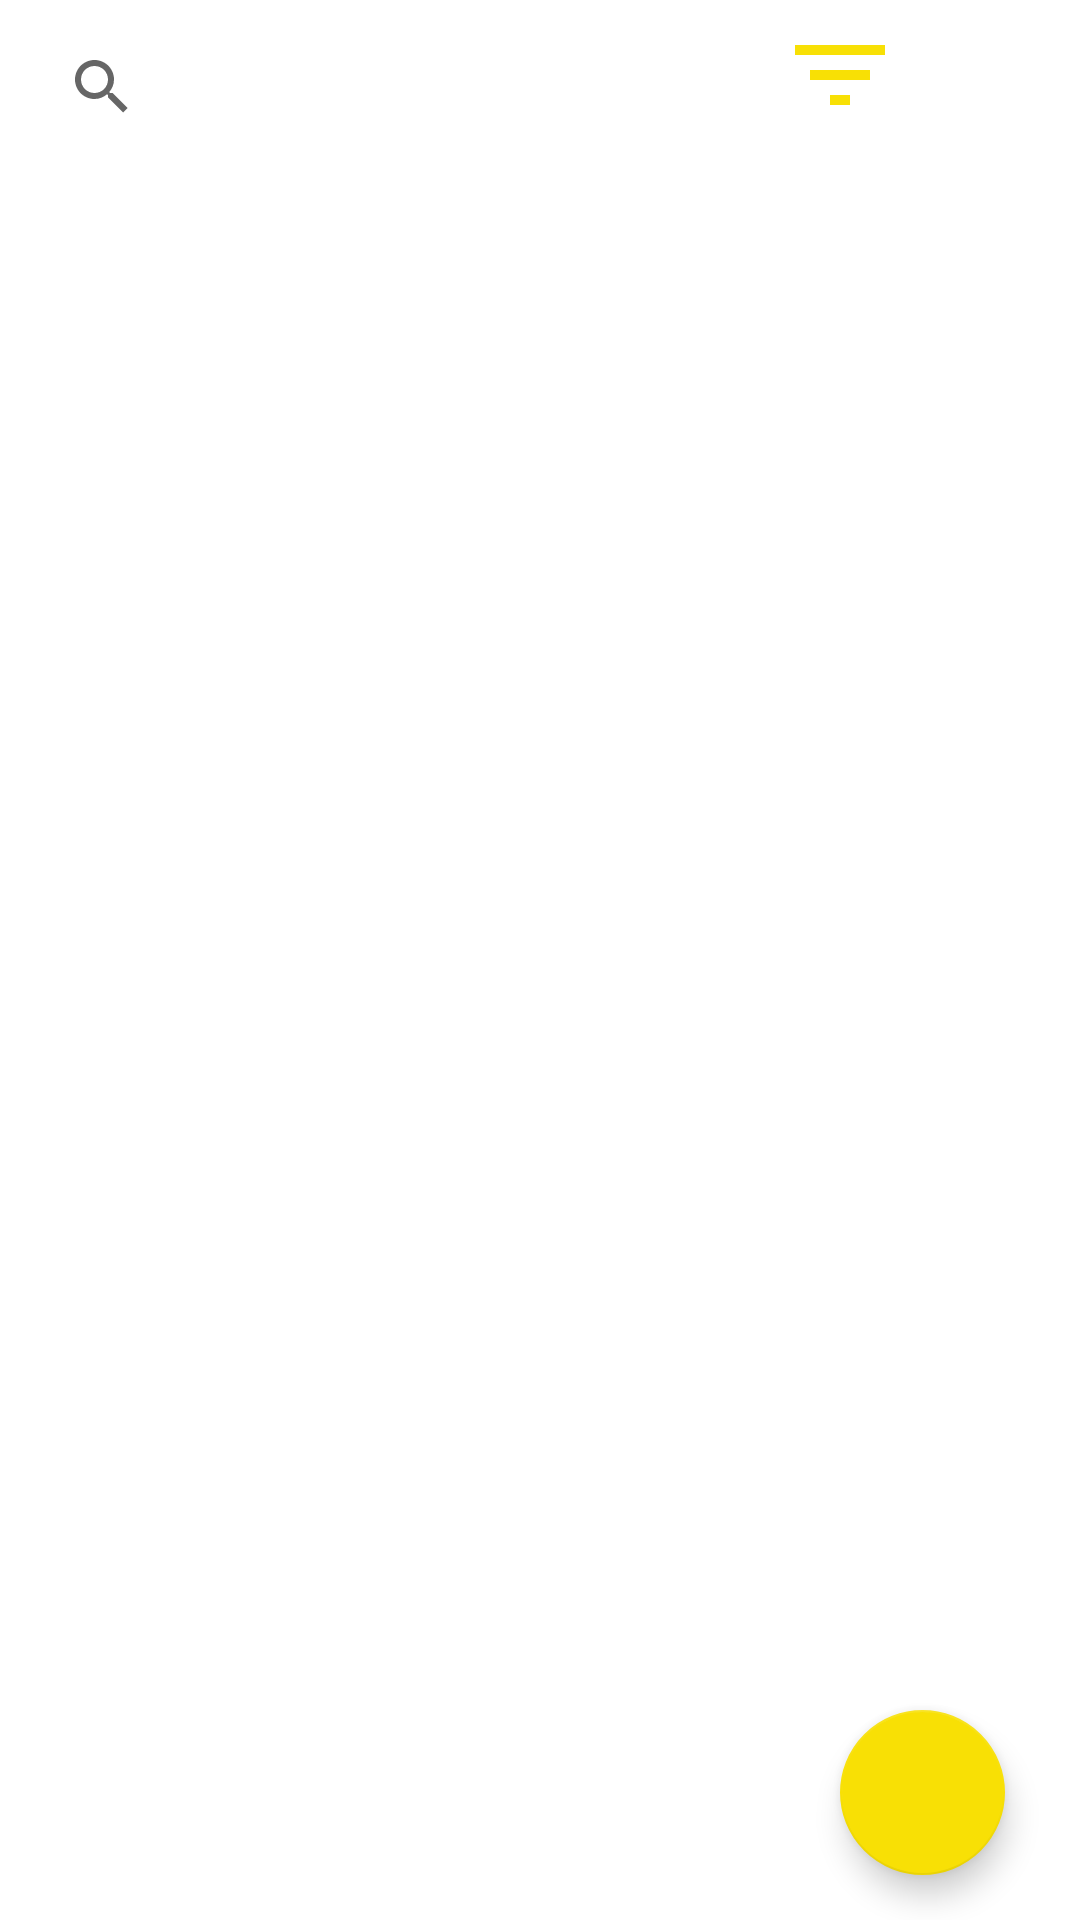

Point at icon controls on the screen. Image size 1080x1920, points as (x=x, y=y).
filter list: (x=840, y=75)
